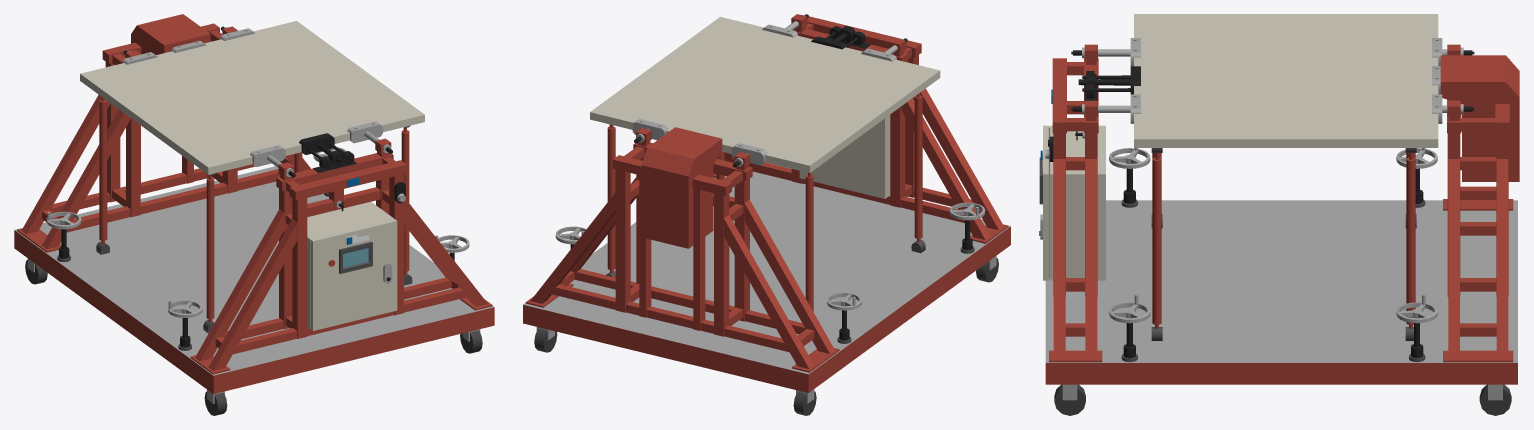
File: z_hong_02.fbx
3 renders of one model, left to right at view 1: azimuth 30°, elevation 25°; view 2: azimuth 150°, elevation 25°; view 3: azimuth 270°, elevation 25°, orthographic. The views are drawn at different scales.
Parts seen in each view (by area): view 1: hong_02; view 2: hong_02; view 3: hong_02.
Boxes of the visible parts, x1,y1,x2,y2 form: hong_02: (14, 14, 494, 415); hong_02: (523, 14, 1010, 415); hong_02: (1039, 14, 1519, 415).
Bounding box in the file's own units: 266 × 196 × 314.
